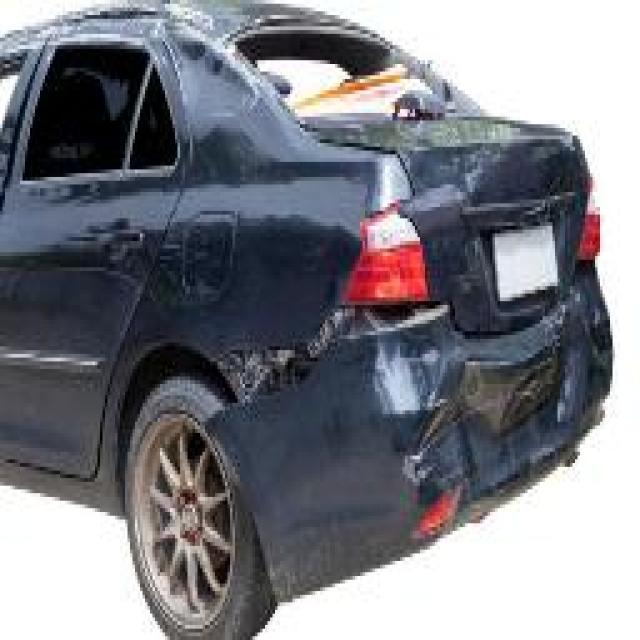Bumper: (203, 257, 613, 604)
Fender: (167, 32, 278, 155)
Windshield: (235, 20, 479, 125)
